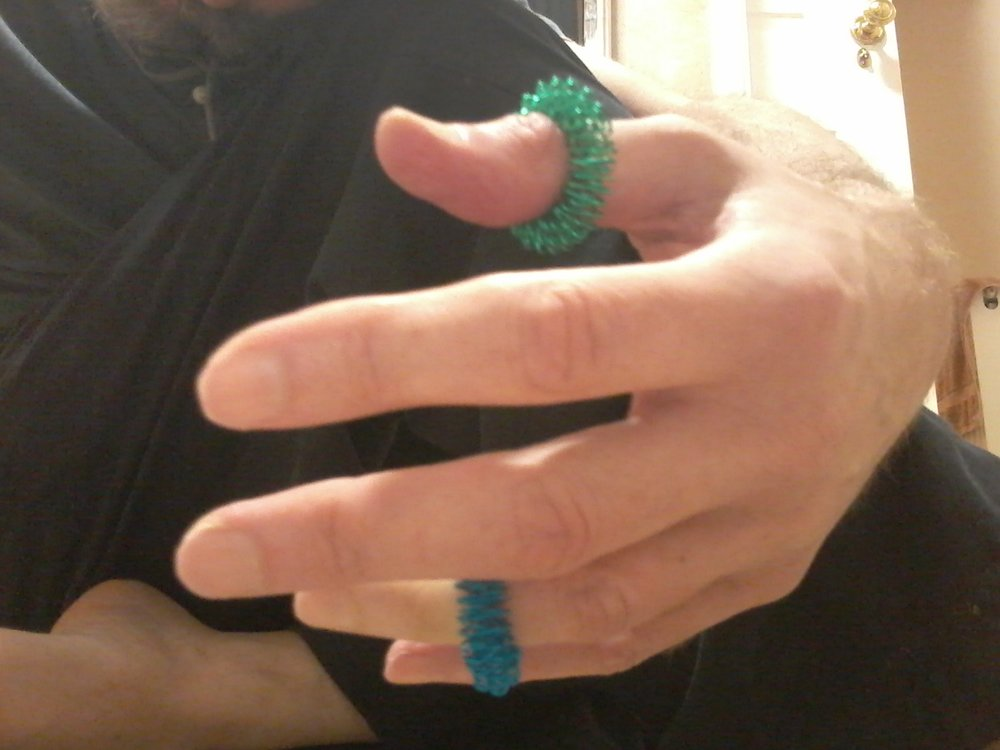finger: (167, 250, 900, 430), (155, 423, 901, 580), (288, 579, 754, 633), (376, 638, 733, 687)
